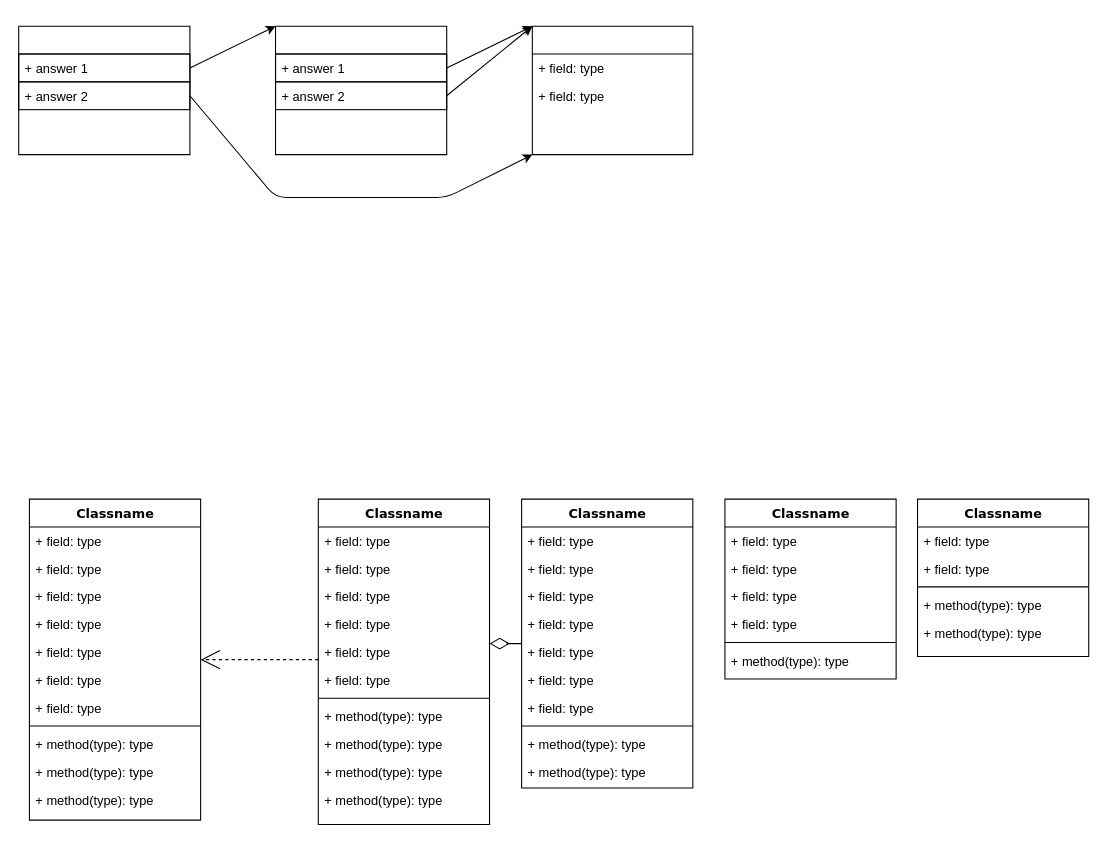
The diagram is 1107 pixels wide and 843 high, and some of its shapes have lost their labels. Here are the shapes that lost their labels. From the top down, the box of each, then its label:
(18, 25, 190, 155): Step 1 Name
(274, 25, 447, 155): Step 2 Name
(531, 25, 693, 155): Step 3 Name
